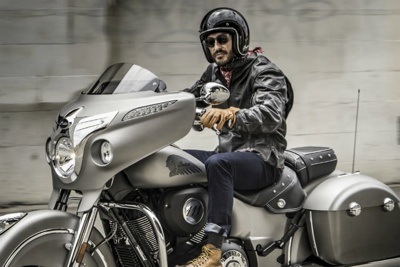helmet: (197, 5, 252, 67)
